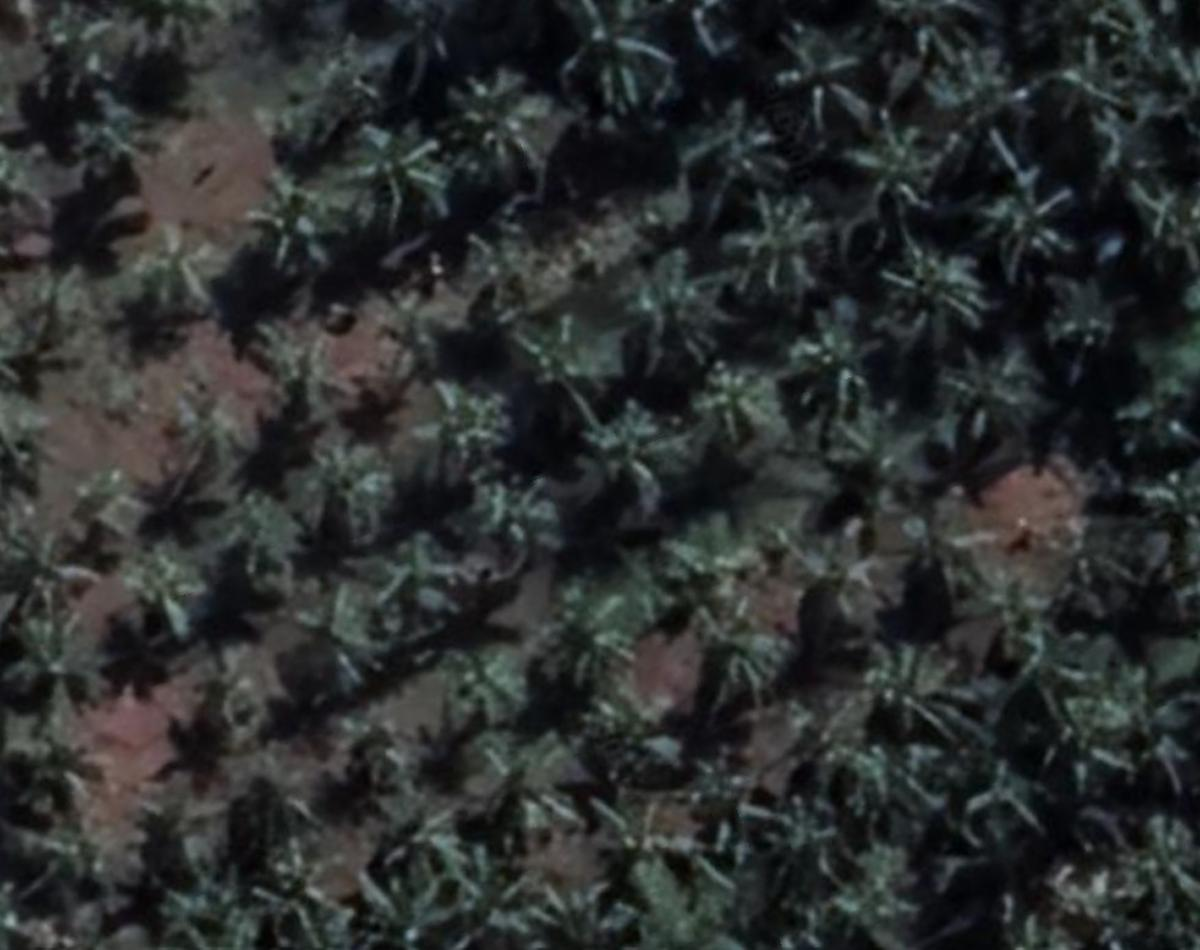coconut: (846, 632, 988, 742), (773, 519, 902, 638), (731, 795, 870, 903), (921, 339, 1037, 464), (455, 727, 574, 848), (629, 251, 747, 372), (293, 432, 406, 545), (324, 716, 441, 825), (510, 314, 629, 421), (572, 2, 687, 112), (764, 19, 881, 127), (451, 473, 570, 579), (727, 191, 835, 305), (403, 379, 518, 486), (514, 583, 634, 683), (577, 791, 718, 875), (962, 151, 1069, 260), (840, 1, 999, 74), (829, 116, 941, 218), (879, 246, 994, 344), (574, 407, 683, 508), (346, 869, 481, 950), (1033, 271, 1144, 369), (682, 97, 796, 191), (788, 353, 888, 459), (697, 366, 797, 470), (56, 81, 157, 183), (891, 502, 995, 599), (247, 832, 354, 925), (245, 177, 349, 271), (344, 123, 452, 213), (298, 581, 396, 678), (216, 491, 316, 586), (694, 611, 796, 701), (132, 226, 233, 316), (119, 547, 211, 643), (149, 786, 247, 876), (370, 544, 464, 635), (204, 655, 299, 740), (439, 655, 538, 736), (532, 876, 640, 950), (457, 64, 544, 155), (256, 316, 338, 403), (233, 770, 319, 846)
